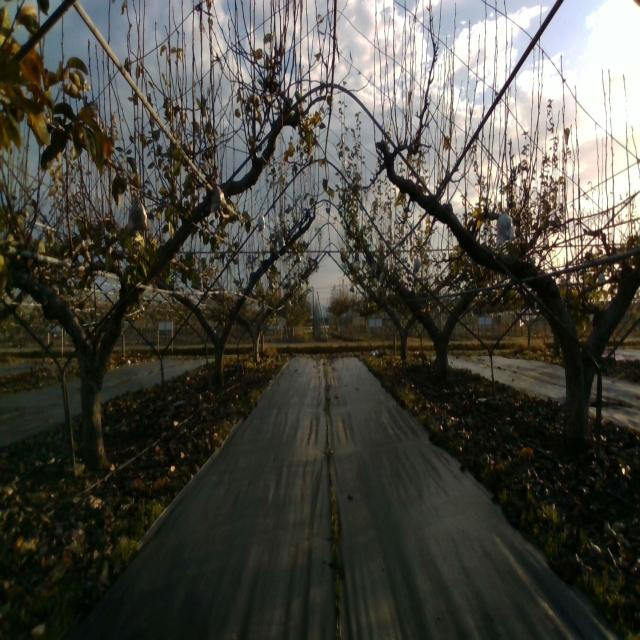pearbags: (126, 192, 150, 234), (496, 208, 517, 245), (211, 185, 228, 213)
